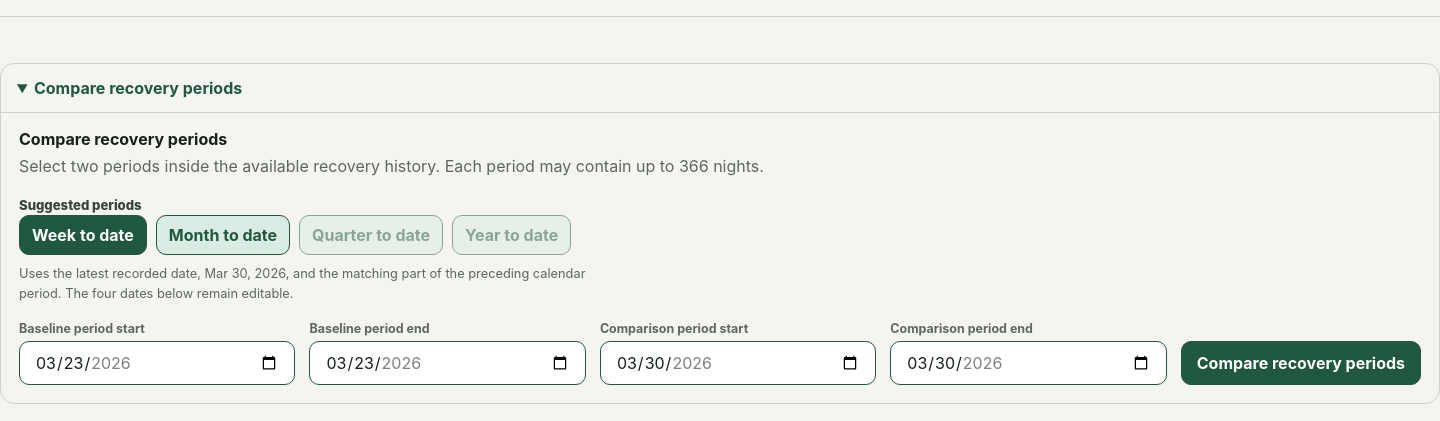
Test: RecoveryComparisonPanel › offers useful calendar presets while keeping all four dates editable
expect the date field labelled "Baseline period start" holds "2026-03-23": met, box 19,342 -> 295,386
expect the date field labelled "Comparison period start" holds "2026-03-30": met, box 600,342 -> 876,386
Click the button "Month to date" at (223, 235), box 156,215 -> 290,255
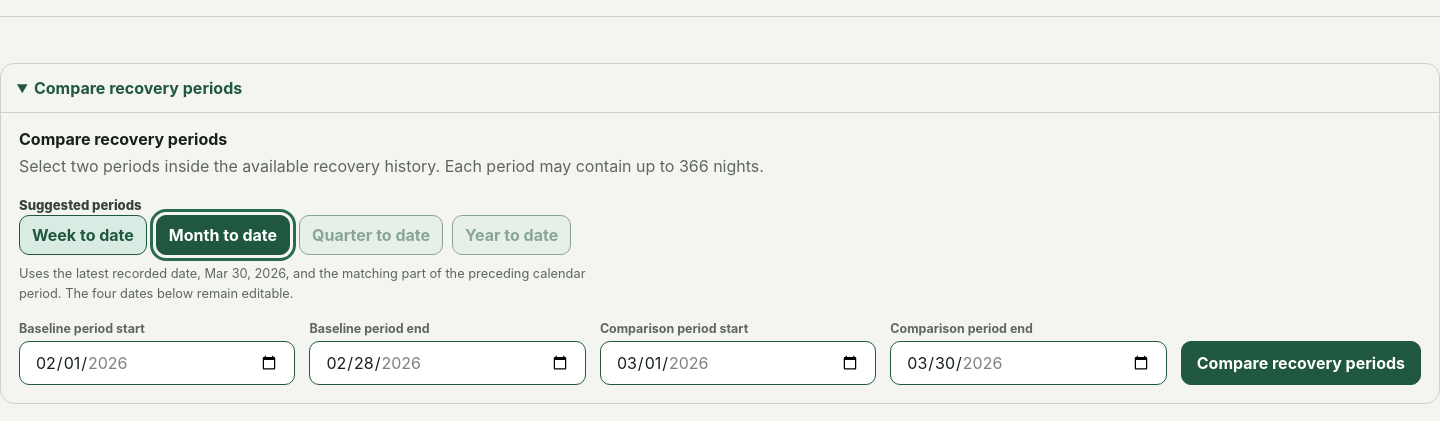
expect the date field labelled "Baseline period start" holds "2026-02-01": met, box 19,342 -> 295,386
expect the date field labelled "Baseline period end" holds "2026-02-28": met, box 309,342 -> 586,386
expect the date field labelled "Comparison period start" holds "2026-03-01": met, box 600,342 -> 876,386
